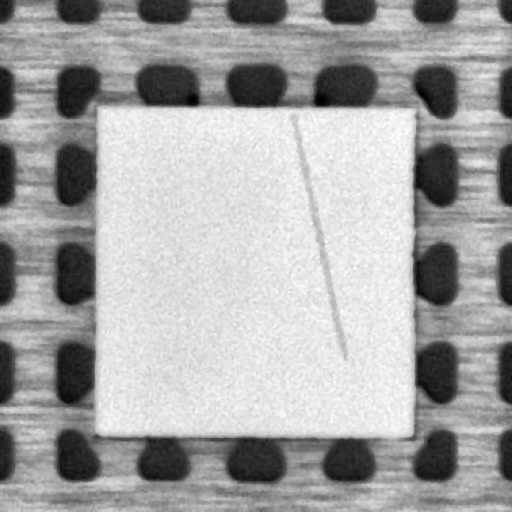DIE_CRACK: (302, 111, 355, 347)
